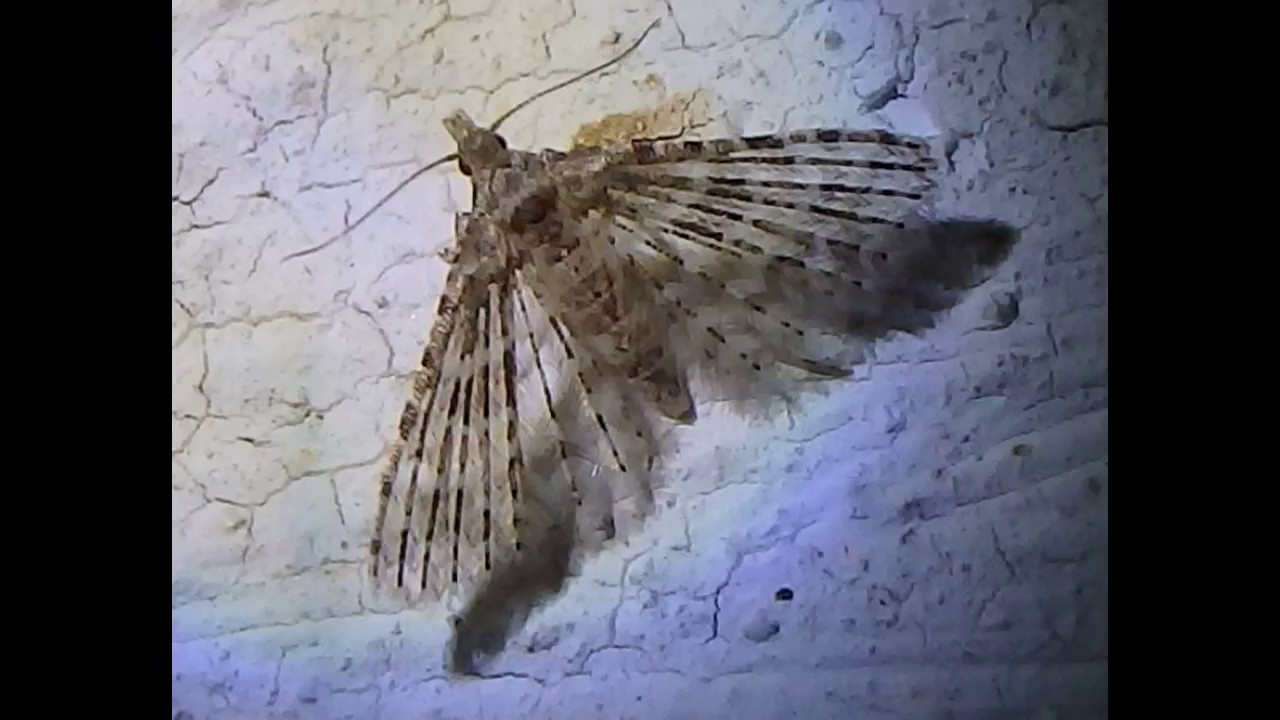Alucitidae: (284, 20, 957, 602)
moth: (282, 18, 955, 600)
